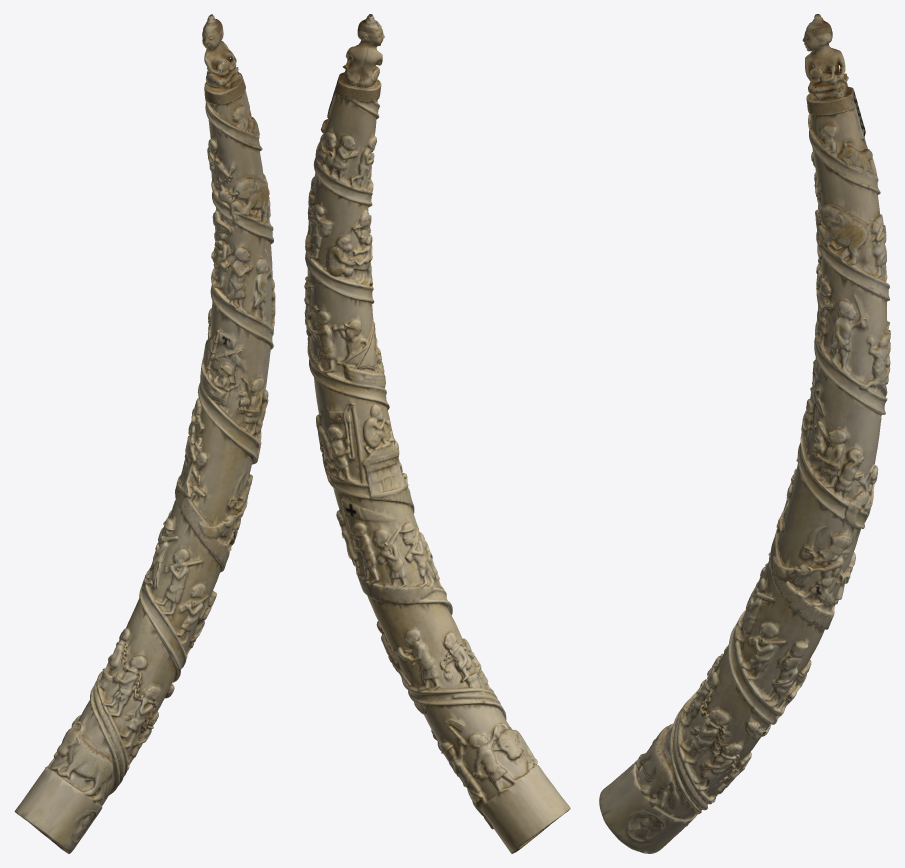
Rendered from defense-sculptee.glb.
3 views of the same model, side by side, from view 1: azimuth 30°, elevation 25°; view 2: azimuth 150°, elevation 25°; view 3: azimuth 330°, elevation 25° (orthographic). The views are drawn at different scales.
Bounding box in the file's own units: 237 × 708 × 59.06.
1 material, 1 textured.
